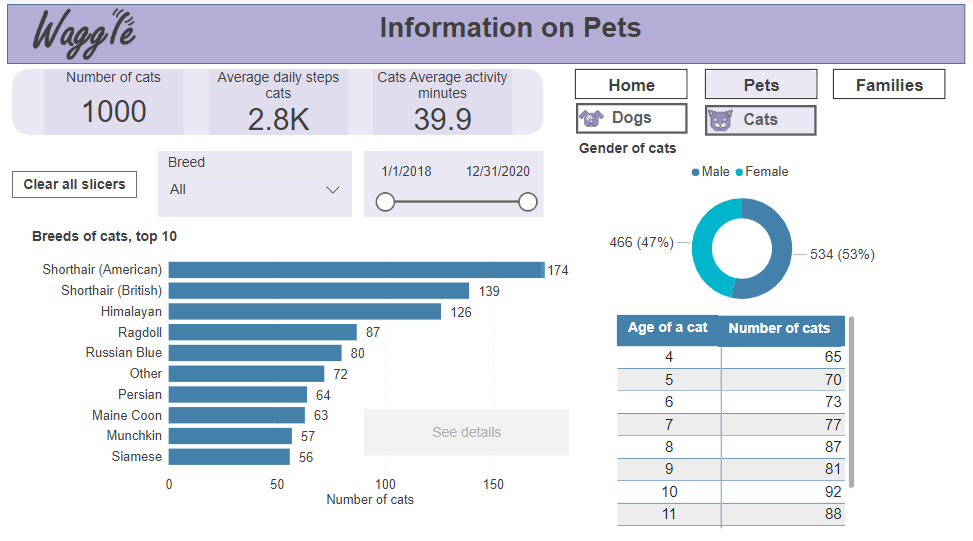

The page's visual inventory and layout, read from the dashboard file:
{"tool":"powerbi","page":{"name":"Pets","canvas":[1280,720],"ordinal":1},"visuals":[{"type":"shape","box":[0,0,1280,80],"z":1000},{"type":"shape","box":[7.2,87,710.1,88.4],"z":2000},{"type":"textbox","title":"Text report","box":[459.9,5.7,426.8,67.5],"z":7000},{"type":"actionButton","title":"Home","box":[759.3,87.3,149.5,40.3],"z":8000},{"type":"actionButton","title":"Pets Info","box":[932.3,87.3,149.5,40.3],"z":9000},{"type":"actionButton","title":"Families Info","box":[1103.6,87.3,149.5,40.3],"z":10000},{"type":"clusteredBarChart","title":"Breeds of cats, top 10","fields":{"Category":["Pet_Data.Breed"],"Y":["CountNonNull(Pet_Data.Pet_ID)"]},"box":[24.4,298.9,747.3,378],"z":17000},{"type":"donutChart","title":"Gender of cats","fields":{"Category":["Pet_Data.Gender"],"Y":["CountNonNull(Pet_Data.Pet_ID)"]},"box":[758.8,181.1,445.5,235.7],"z":18000},{"type":"card","title":"Number of cats","fields":{"Values":["CountNonNull(Pet_Data.Dog/Cat)"]},"box":[49.3,87,185.5,88.4],"z":19000},{"type":"card","title":"Average daily steps cats","fields":{"Values":["Avg(Tracker_Data.Daily_Steps)"]},"box":[269.6,87,185.5,88.4],"z":20000},{"type":"card","title":"Cats Average activity minutes","fields":{"Values":["Avg(Tracker_Data.Activity_Minutes)"]},"box":[488.4,87,185.5,88.4],"z":21000},{"type":"actionButton","title":"Dogs Off","box":[759.4,131.9,149.3,40.6],"z":22000},{"type":"actionButton","title":"Cats off","box":[931.9,134.8,149.3,40.6],"z":23000},{"type":"tableEx","title":"Age of cats table","fields":{"Values":["Pet_Data.Age","Pet_Data.Pet_ID"]},"box":[810.1,411.6,327.5,294.2],"z":24000},{"type":"textbox","title":"Text age of cats","box":[815.2,415.3,135,41],"z":25000},{"type":"slicer","fields":{"Values":["Pet_Data.Breed"]},"box":[201.2,196.9,258.7,87.7],"z":26000},{"type":"textbox","title":"Text age of cats","box":[950.2,417,164.1,41],"z":27000},{"type":"actionButton","box":[7.2,222.8,166.7,35.9],"z":29000},{"type":"slicer","fields":{"Values":["Date_Table.Date"]},"box":[477.1,196.9,240,87.7],"z":30000},{"type":"actionButton","box":[477.1,540.4,274.5,61.8],"z":31000}]}

Visuals, with their boxes in screenshot pixels (x1, y1, x2, y2), scaled from the page's 1280x720 canvas onto the 973x541 screenshot:
shape: box=[0, 0, 972, 60]
shape: box=[5, 65, 545, 132]
"Text report" textbox: box=[350, 4, 674, 55]
"Home" actionButton: box=[577, 66, 691, 96]
"Pets Info" actionButton: box=[709, 66, 822, 96]
"Families Info" actionButton: box=[839, 66, 953, 96]
"Breeds of cats, top 10" clusteredBarChart: box=[19, 225, 587, 509]
"Gender of cats" donutChart: box=[577, 136, 915, 313]
"Number of cats" card: box=[37, 65, 178, 132]
"Average daily steps cats" card: box=[205, 65, 346, 132]
"Cats Average activity minutes" card: box=[371, 65, 512, 132]
"Dogs Off" actionButton: box=[577, 99, 691, 130]
"Cats off" actionButton: box=[708, 101, 822, 132]
"Age of cats table" tableEx: box=[616, 309, 865, 530]
"Text age of cats" textbox: box=[620, 312, 722, 343]
slicer - Pet_Data.Breed: box=[153, 148, 350, 214]
"Text age of cats" textbox: box=[722, 313, 847, 344]
actionButton: box=[5, 167, 132, 194]
slicer - Date_Table.Date: box=[363, 148, 545, 214]
actionButton: box=[363, 406, 571, 452]
